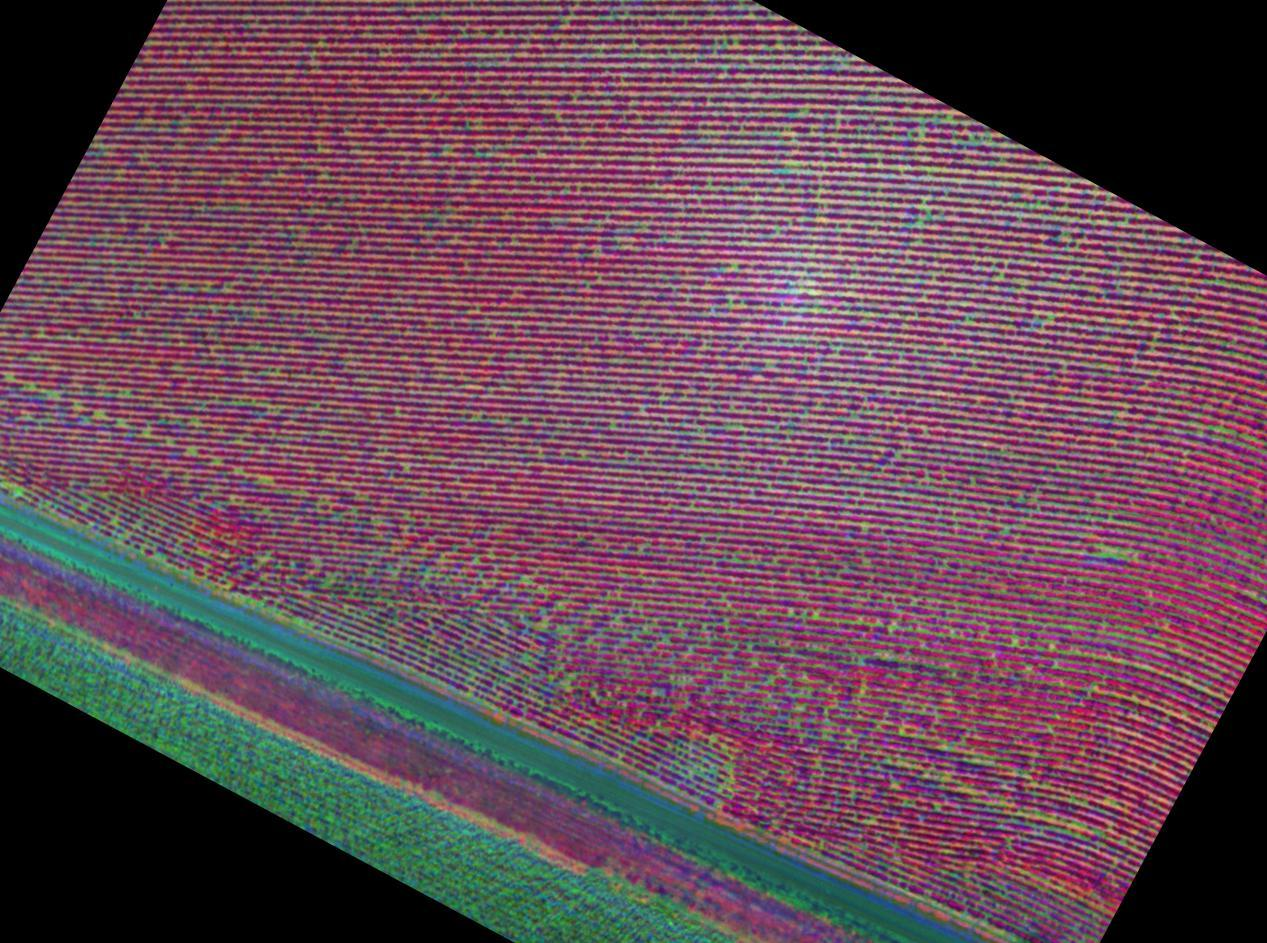dc: (265, 555, 270, 559), (1114, 554, 1118, 558), (426, 572, 430, 576), (1013, 643, 1017, 647), (475, 662, 479, 666), (727, 764, 731, 768), (373, 520, 376, 524), (325, 578, 328, 582), (590, 721, 594, 724), (720, 785, 723, 788)
